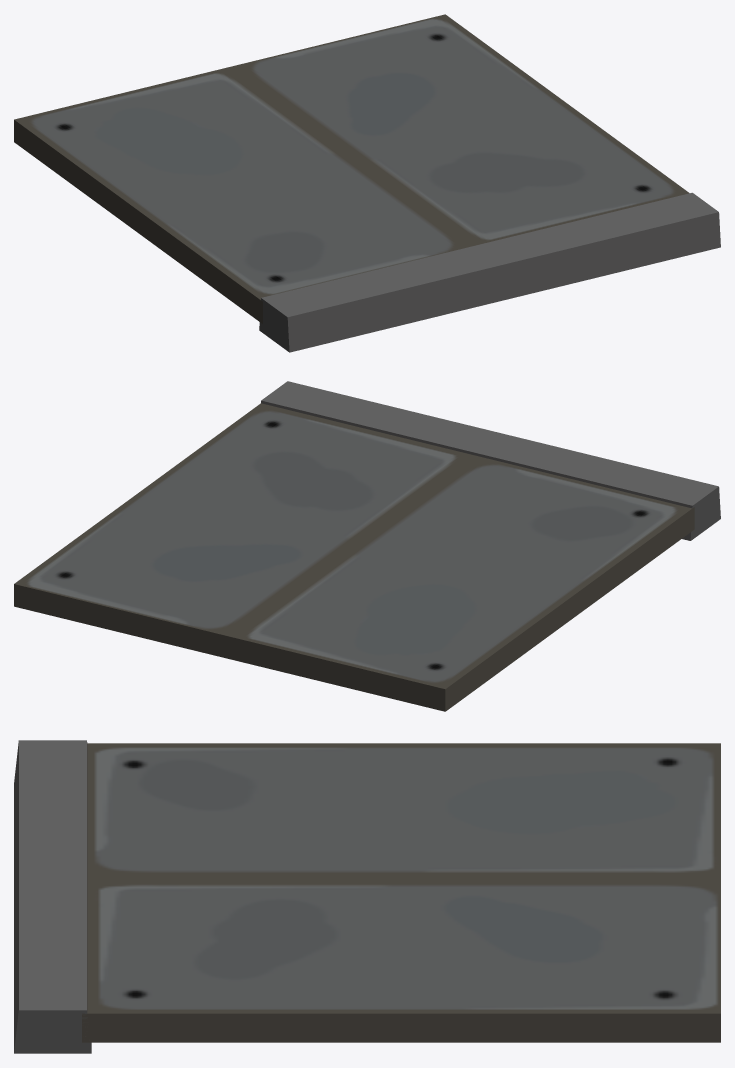
The model's file is Sidewalk_D1.fbx.
3 renders of one model, top to bottom at view 1: azimuth 30°, elevation 25°; view 2: azimuth 150°, elevation 25°; view 3: azimuth 270°, elevation 25°, orthographic. The views are drawn at different scales.
Visible parts, largest first — view 1: Sidewalk_D1; view 2: Sidewalk_D1; view 3: Sidewalk_D1.
Boxes of the visible parts, x1,y1,x2,y2 form: Sidewalk_D1: [14, 14, 720, 352]; Sidewalk_D1: [14, 381, 720, 711]; Sidewalk_D1: [14, 740, 720, 1053].
Size of the model in its own units: 400 by 30.09 by 443.
